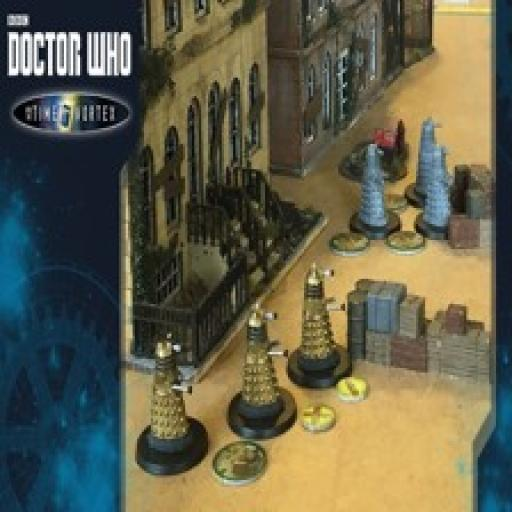dalek: (141, 330, 199, 450), (298, 261, 348, 371), (240, 306, 284, 420), (356, 138, 392, 226), (424, 146, 453, 231), (416, 115, 442, 195)
